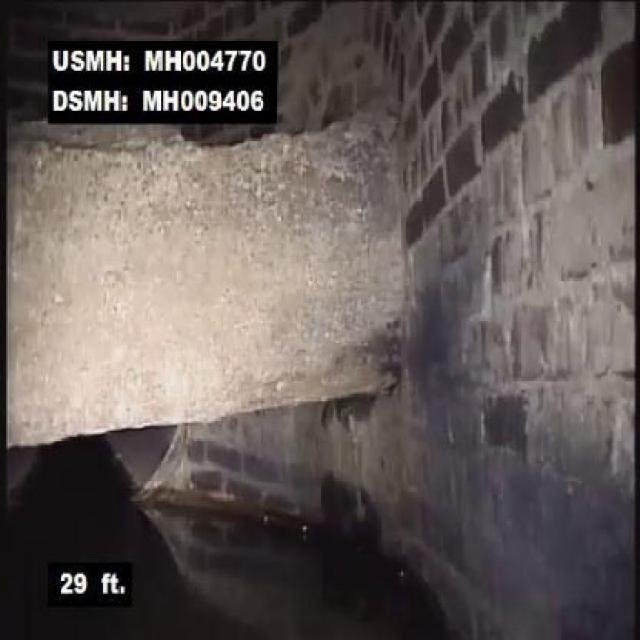Utility intrusion: (0, 125, 414, 448)
